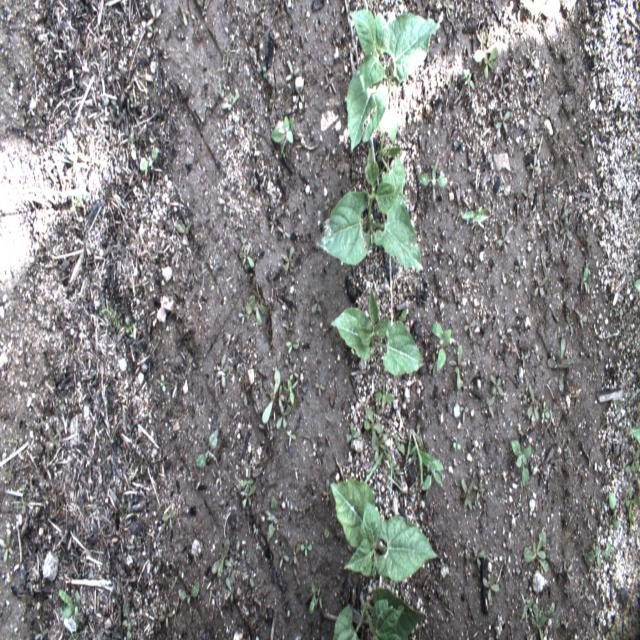crop: (321, 125, 426, 273), (331, 459, 438, 589), (346, 7, 438, 153), (330, 284, 424, 379), (331, 586, 424, 640)
weed: (428, 319, 456, 374), (58, 587, 87, 639), (405, 426, 434, 474), (599, 489, 624, 539), (512, 437, 538, 485), (522, 528, 548, 575), (359, 404, 388, 446), (244, 284, 270, 328), (262, 368, 280, 429), (270, 114, 295, 157), (622, 485, 640, 541), (217, 31, 239, 76), (531, 599, 554, 640), (449, 342, 467, 393), (99, 299, 125, 334), (195, 432, 218, 469), (207, 539, 230, 576), (420, 458, 444, 493), (417, 164, 449, 189), (479, 43, 500, 81), (547, 338, 571, 370), (307, 579, 326, 617), (264, 495, 279, 542), (118, 598, 134, 640), (384, 449, 402, 484), (12, 483, 28, 521), (375, 378, 395, 408), (586, 544, 612, 567), (460, 479, 478, 512), (370, 433, 390, 462), (460, 206, 490, 225), (344, 419, 360, 453), (482, 574, 501, 602), (0, 527, 14, 565), (521, 388, 538, 419), (240, 231, 255, 266), (554, 194, 568, 230), (520, 594, 534, 629), (178, 582, 200, 604), (277, 397, 291, 431), (284, 542, 302, 568), (622, 450, 640, 476), (140, 147, 159, 171), (280, 381, 298, 406), (146, 1, 162, 26), (6, 426, 19, 456), (285, 332, 301, 356), (240, 466, 256, 490), (221, 89, 240, 109), (490, 374, 504, 401), (45, 434, 58, 462), (219, 354, 229, 390), (470, 548, 486, 570), (579, 264, 591, 293), (523, 180, 534, 211), (287, 58, 298, 89), (311, 290, 325, 314), (498, 223, 508, 256), (32, 621, 50, 639), (300, 536, 314, 559), (479, 28, 493, 51), (119, 493, 130, 522), (534, 276, 548, 298), (217, 198, 235, 215), (161, 511, 176, 531), (125, 315, 137, 340), (528, 152, 540, 177), (224, 578, 236, 603), (497, 109, 510, 129), (523, 48, 536, 68), (284, 246, 293, 274), (3, 462, 13, 487), (294, 77, 304, 102), (464, 70, 475, 92), (629, 424, 640, 446), (71, 194, 84, 212), (322, 479, 331, 505), (540, 397, 551, 418), (561, 219, 571, 242), (628, 386, 640, 405), (574, 308, 586, 327), (562, 560, 572, 582), (395, 431, 405, 453), (485, 395, 495, 417), (542, 464, 553, 484), (54, 547, 66, 565), (565, 313, 574, 337), (442, 0, 456, 15), (232, 539, 242, 560), (176, 223, 192, 236), (242, 494, 256, 508), (286, 429, 296, 448), (506, 56, 516, 74), (463, 320, 477, 332), (500, 75, 508, 96), (147, 27, 158, 42), (324, 520, 332, 540), (472, 480, 484, 493), (159, 373, 166, 395), (180, 6, 188, 25), (452, 438, 462, 453), (228, 557, 238, 572), (158, 612, 174, 621), (129, 92, 138, 108), (460, 547, 470, 561), (323, 75, 332, 90), (244, 574, 254, 587), (294, 570, 301, 588), (580, 131, 588, 146), (129, 131, 136, 148), (604, 215, 613, 228), (82, 559, 88, 578), (263, 200, 274, 210), (209, 277, 215, 294), (186, 474, 196, 484), (314, 384, 324, 394), (554, 126, 565, 135), (289, 367, 298, 378), (596, 456, 603, 470), (58, 396, 64, 412), (261, 64, 267, 80), (55, 49, 63, 61), (628, 108, 636, 120), (72, 127, 77, 144), (592, 51, 597, 68), (619, 154, 627, 163), (572, 462, 577, 476), (259, 379, 263, 396), (152, 252, 158, 262), (634, 278, 639, 290), (443, 596, 450, 604), (219, 87, 224, 98), (284, 322, 290, 331), (116, 105, 120, 118)
